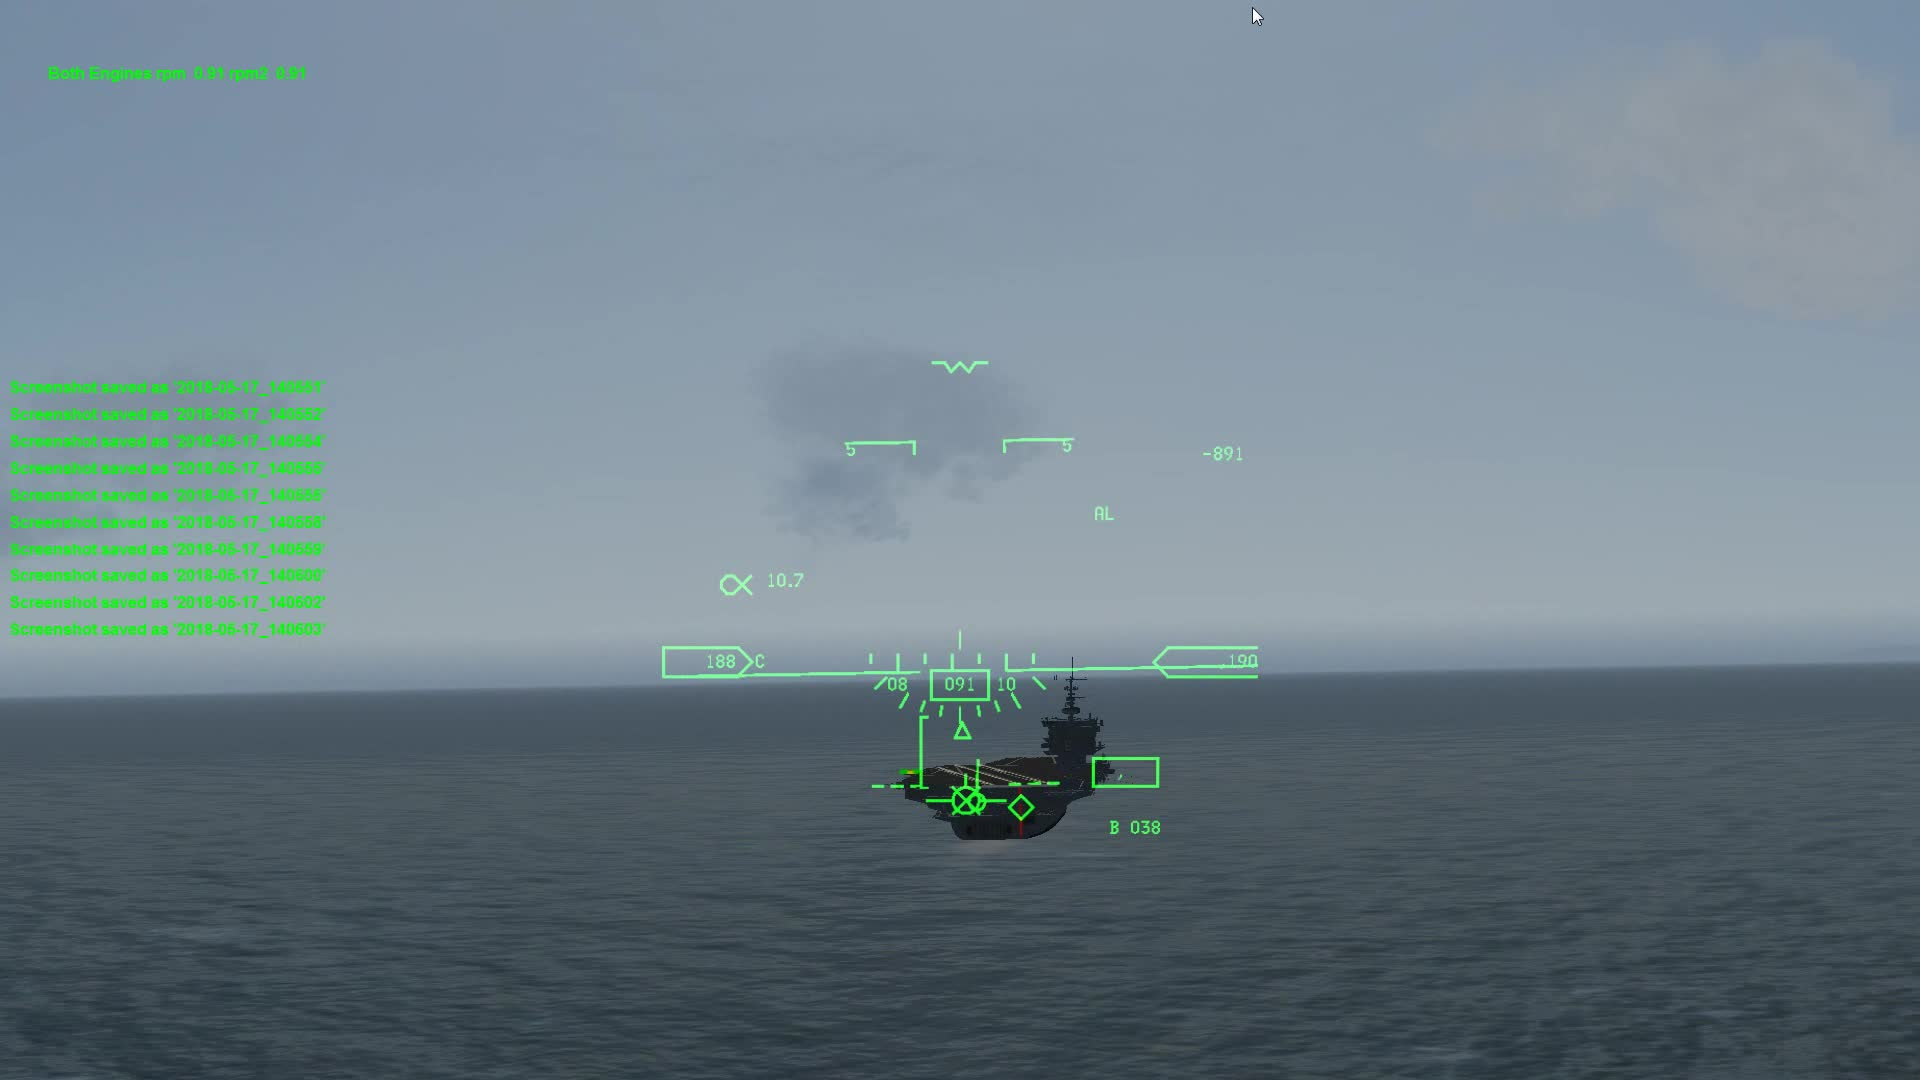speed vector: (930, 766, 1000, 824)
